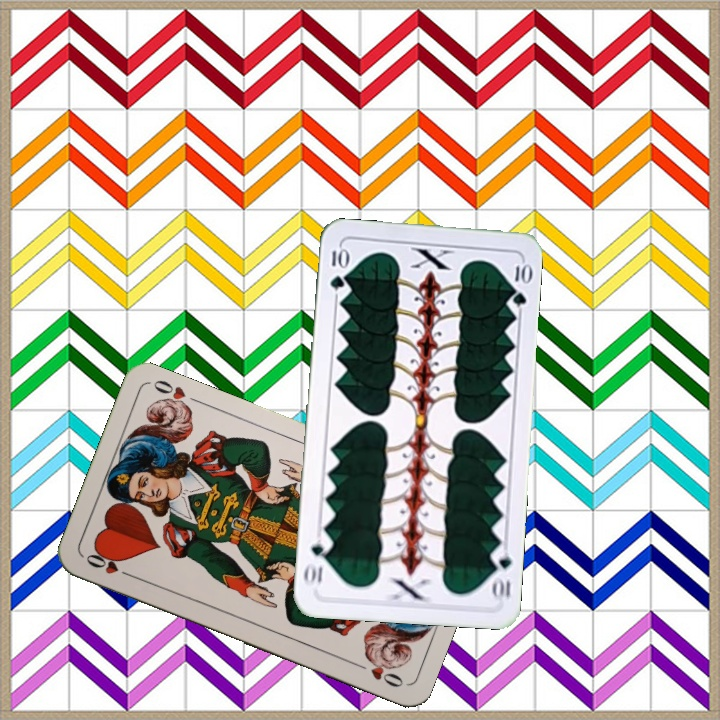G10: (487, 544, 514, 603), (326, 243, 348, 292)
HO: (81, 549, 137, 581)
